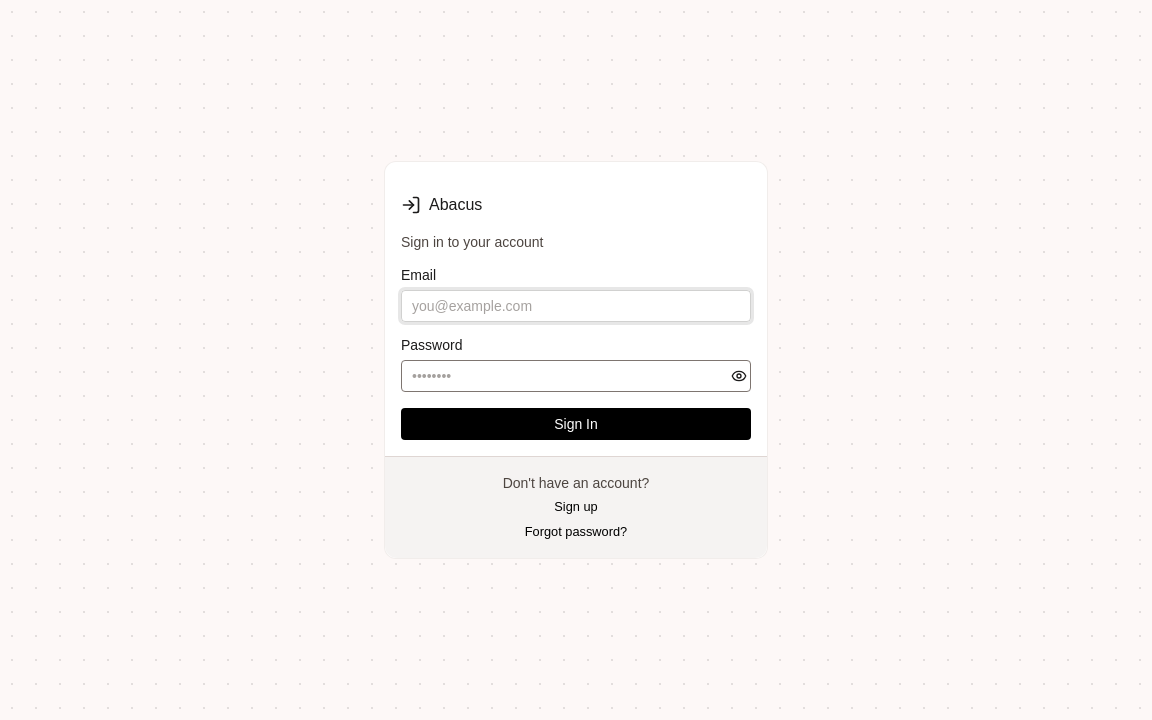
Auth Page › toggles to sign up mode
Expected: the text "Sign in to your account" is shown, [401,234,543,250]
Click the button "Sign up": x=576, y=507 [553,497,599,518]
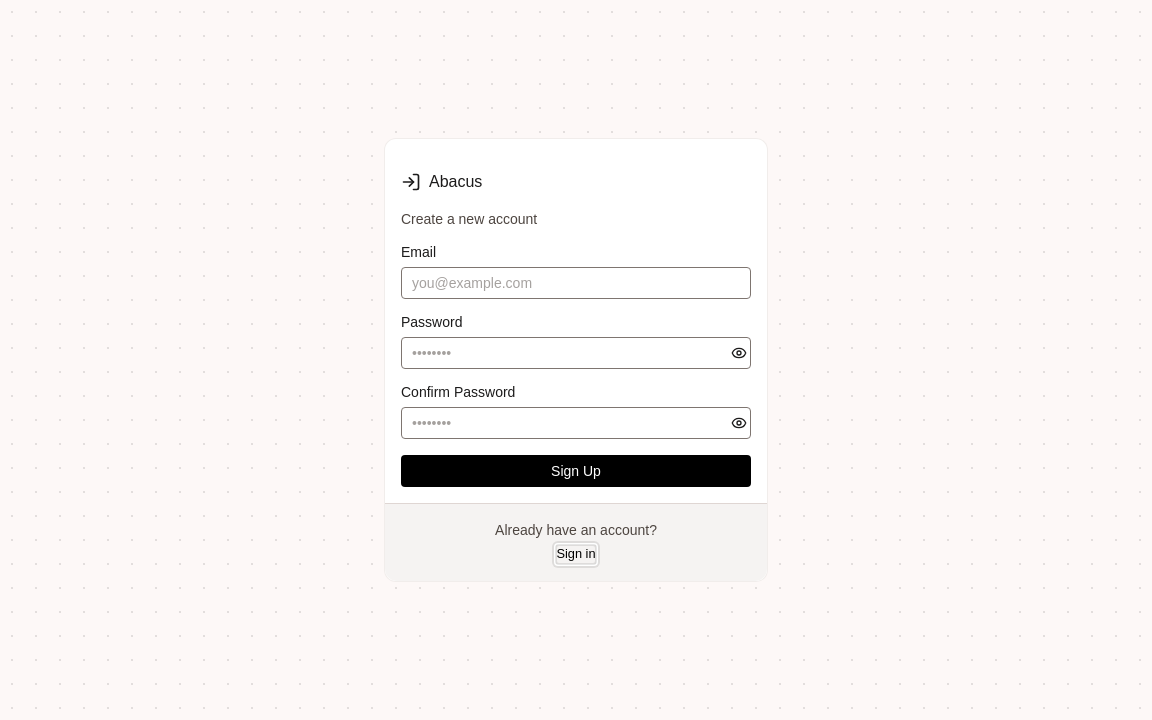
Now the text "Create a new account" is shown, box [401,211,537,227]
Toggle back
Click the button "Sign in": x=576, y=555 [555,544,596,565]
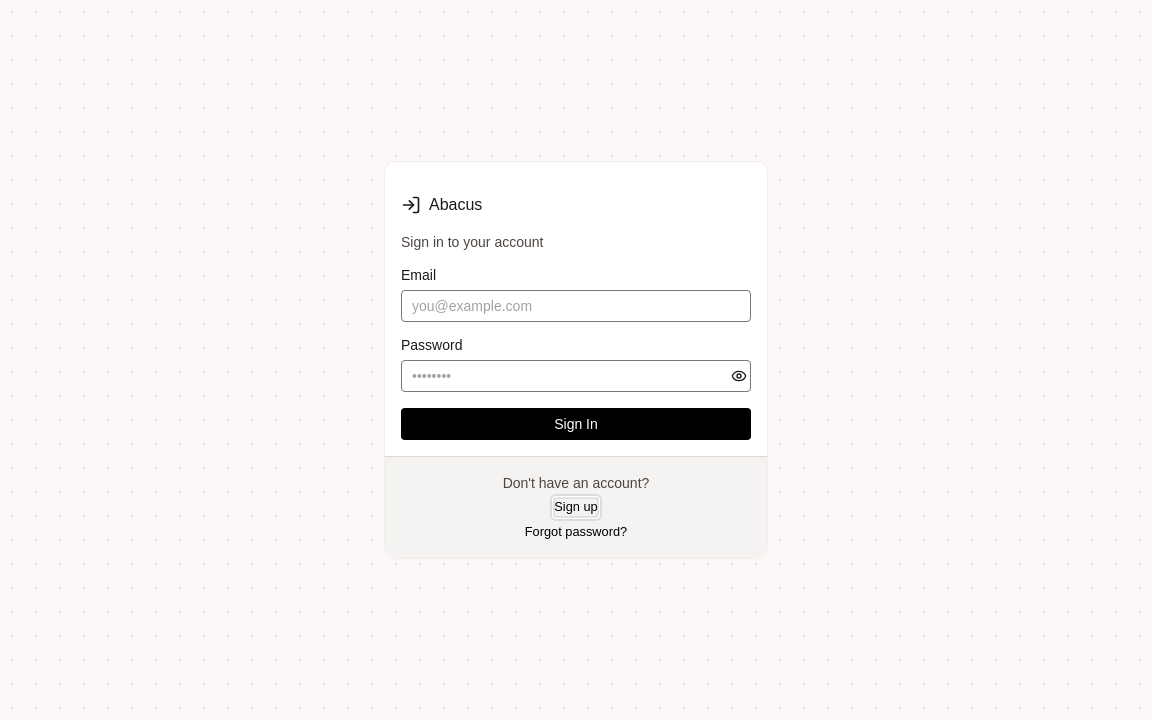
Now the text "Sign in to your account" is shown, box [401,234,543,250]
